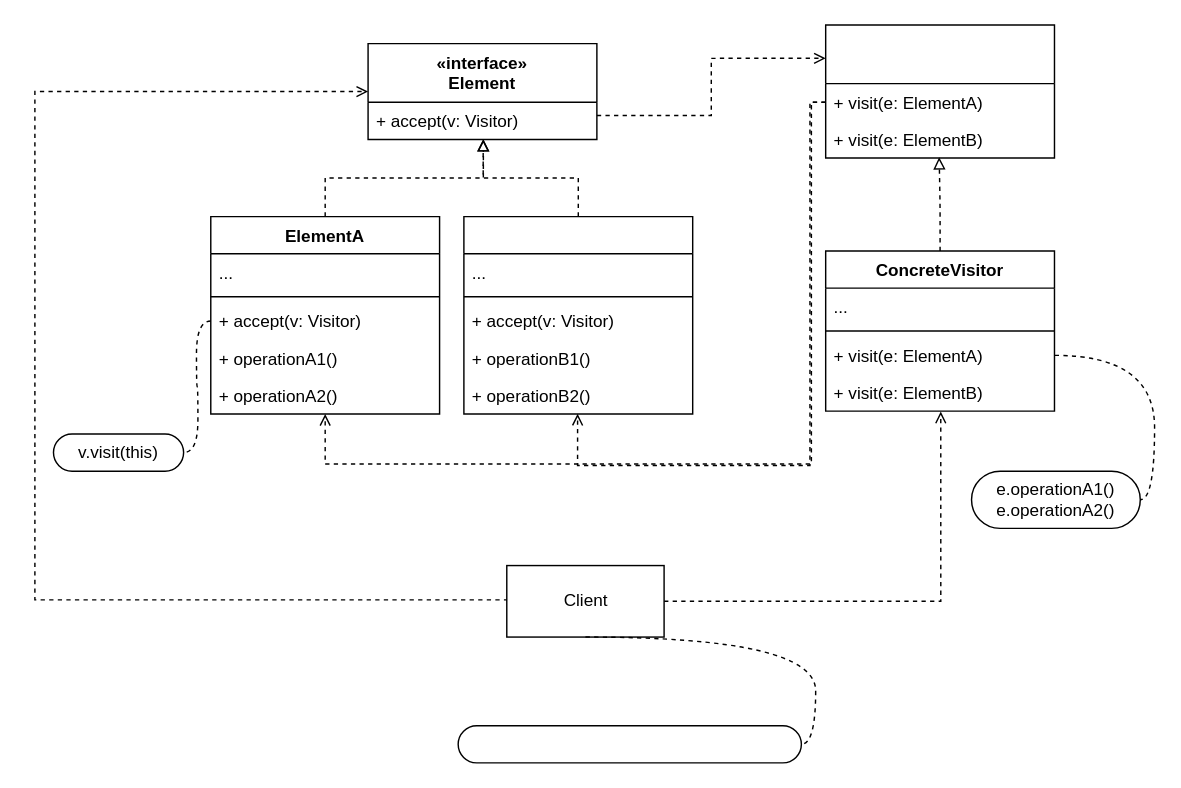
This 1181x788 diagram has some shape labels left out. Here are the shapes that lost their labels. From the top down, the box of each, then its label:
(824, 24, 1054, 158): «interface» Visitor
(462, 215, 693, 414): ElementB
(457, 724, 801, 763): element.accept(new ConcreteVisitor())
